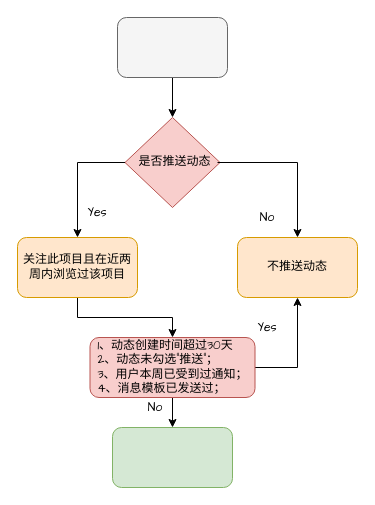
Image size: 375x505. Some labels were removed from this diagram. The box of each missing label's shape, as (x1, y1, x2, y2) in pixels:
10点运行脚本: (116, 16, 228, 78)
推送动态: (112, 426, 232, 488)
